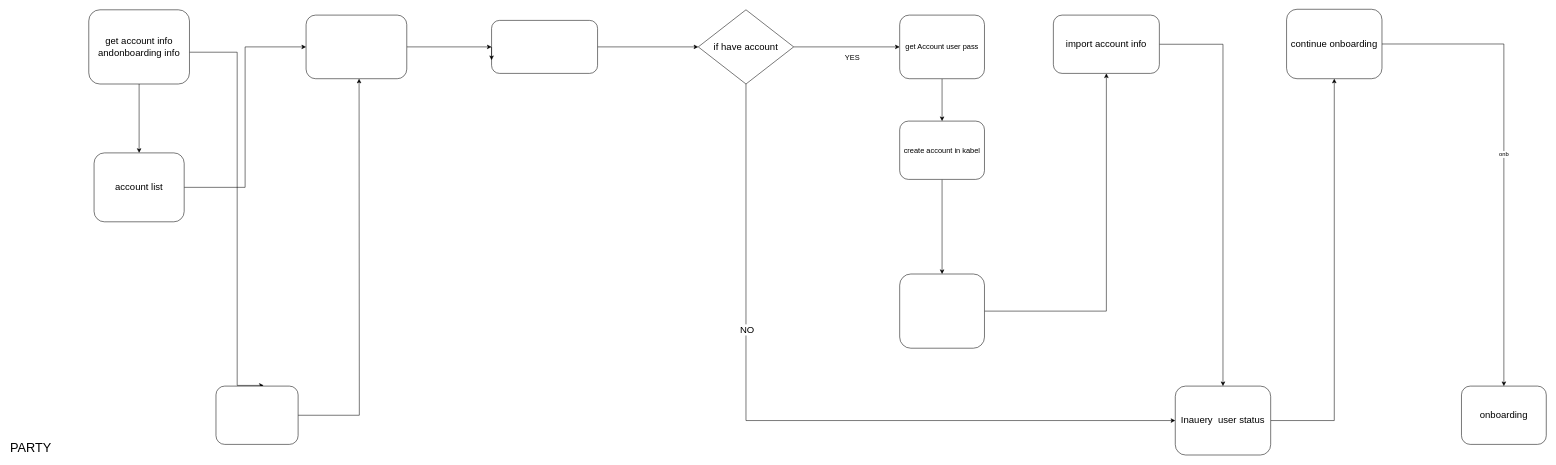
Some shapes in this 1556 by 465 pixel diagram are drawn without their labels. Here are the shapes that lost their labels. From the top down, the centre of each, then its label:
the point at 356,47: account list and onboarding info
the point at 544,46: Add Account
the point at 941,310: init account
the point at 256,415: onboarding info
